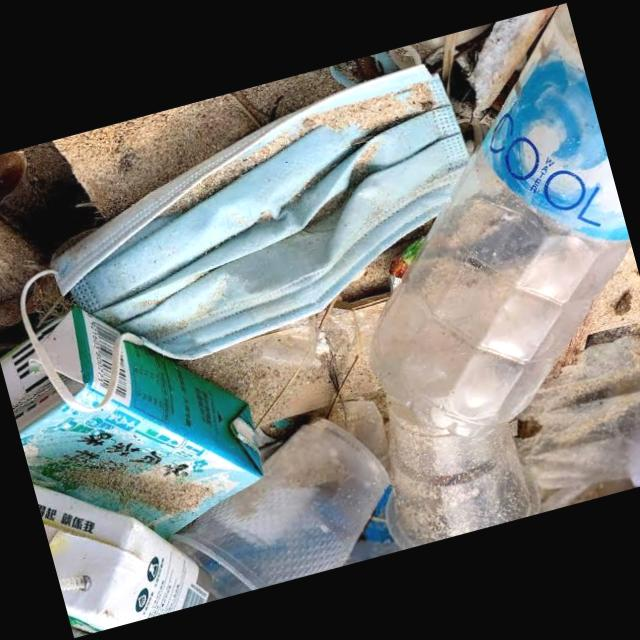chai_nhua_pet: (368, 3, 630, 441)
khau_trang: (18, 61, 470, 410)
vo_hop_sua: (0, 305, 263, 538), (33, 484, 212, 638)
